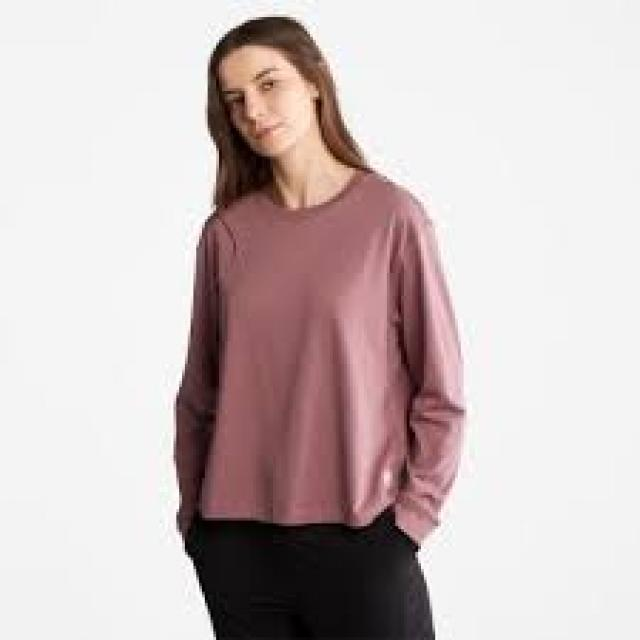plain: (165, 184, 469, 532)
